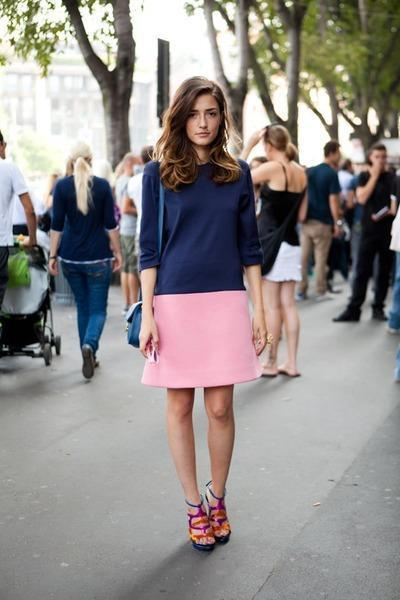shirt: (140, 156, 258, 295)
shoe: (188, 492, 229, 543)
skirt: (141, 291, 276, 395)
